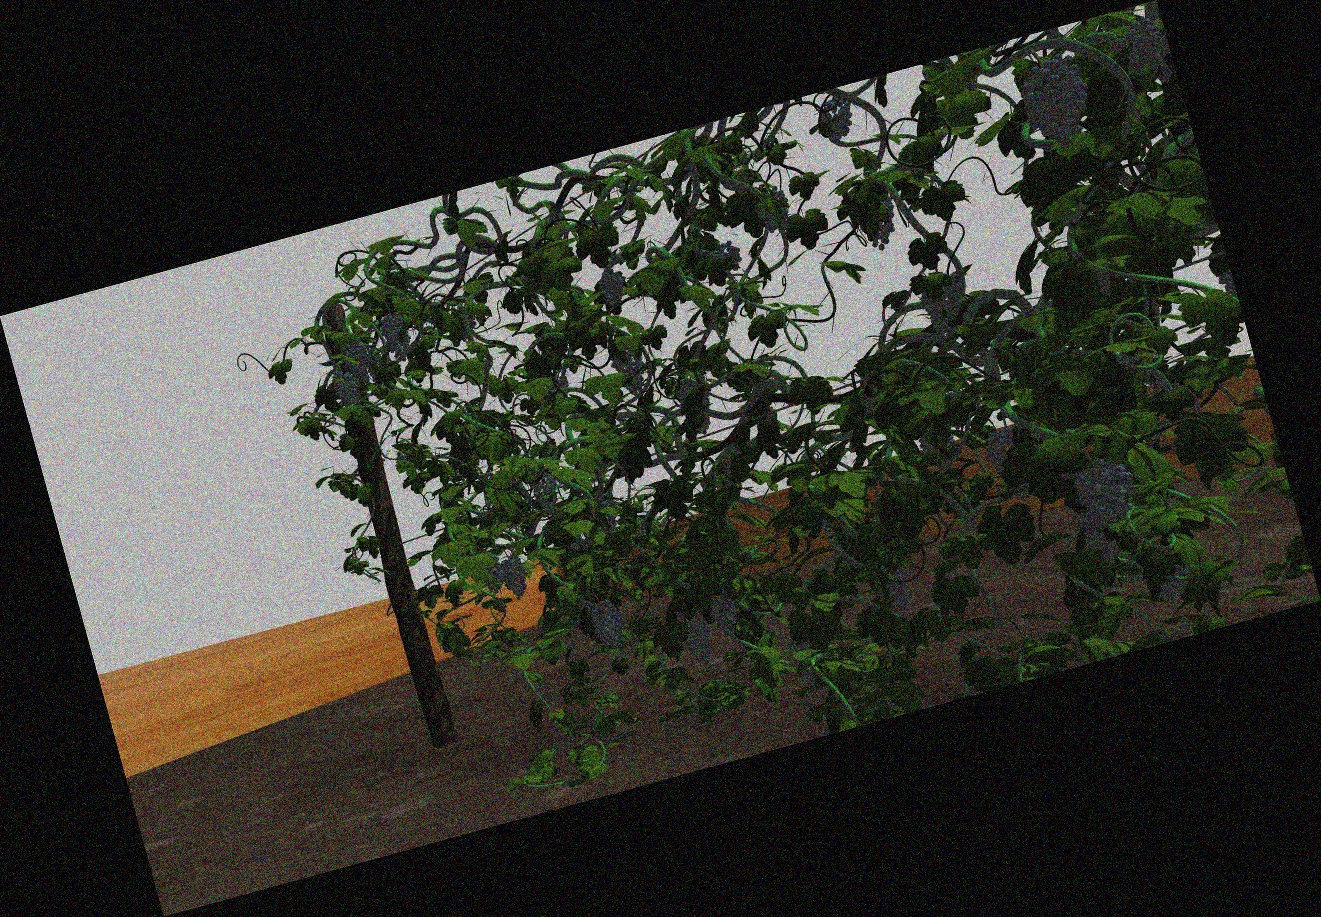grape: (1024, 57, 1090, 145), (1076, 460, 1137, 522), (920, 272, 968, 334), (989, 426, 1028, 499), (1115, 17, 1165, 71), (1084, 531, 1122, 574), (682, 616, 714, 666), (594, 600, 624, 651), (818, 101, 854, 143), (875, 568, 912, 608), (616, 348, 646, 396), (711, 594, 741, 639), (344, 339, 371, 383), (504, 556, 529, 602), (385, 313, 411, 359), (533, 471, 558, 509), (599, 269, 625, 304), (334, 373, 359, 409), (483, 564, 504, 593)
